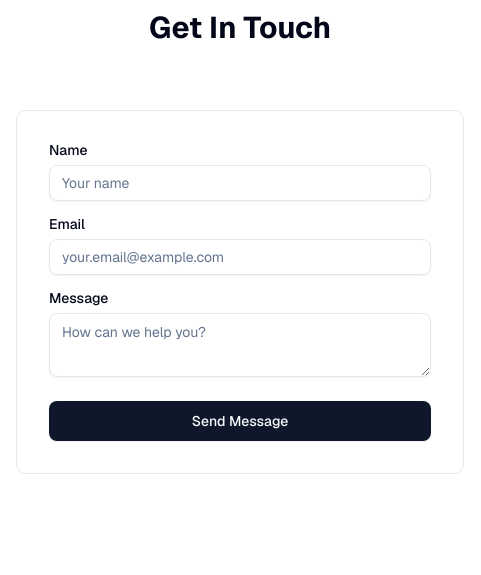
it: Contact › validates required fields when form is submitted
The image size is (481, 575).
// Submit the form without filling any fields
Click the button "Send Message" at (240, 421), box [49,401,431,441]
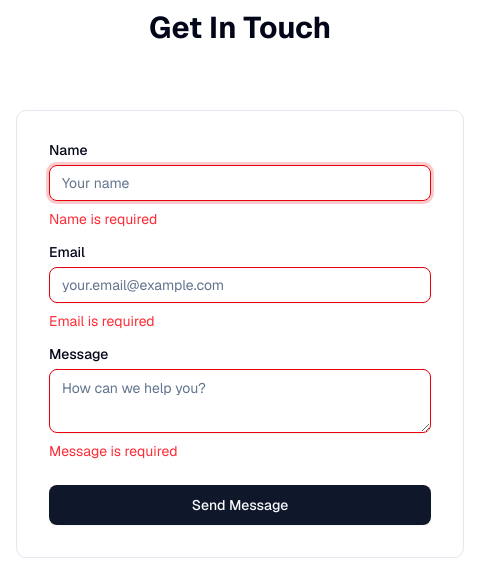
Result: the text "Name is required" is shown at [49,210,157,228]
Result: the text "Email is required" is shown at [49,312,155,330]
Result: the text "Message is required" is shown at [49,442,178,460]
